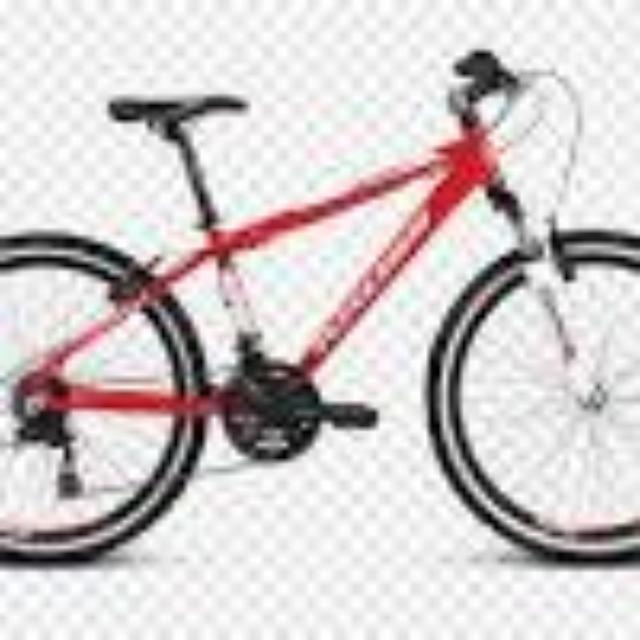obstacle: (0, 28, 640, 590)
